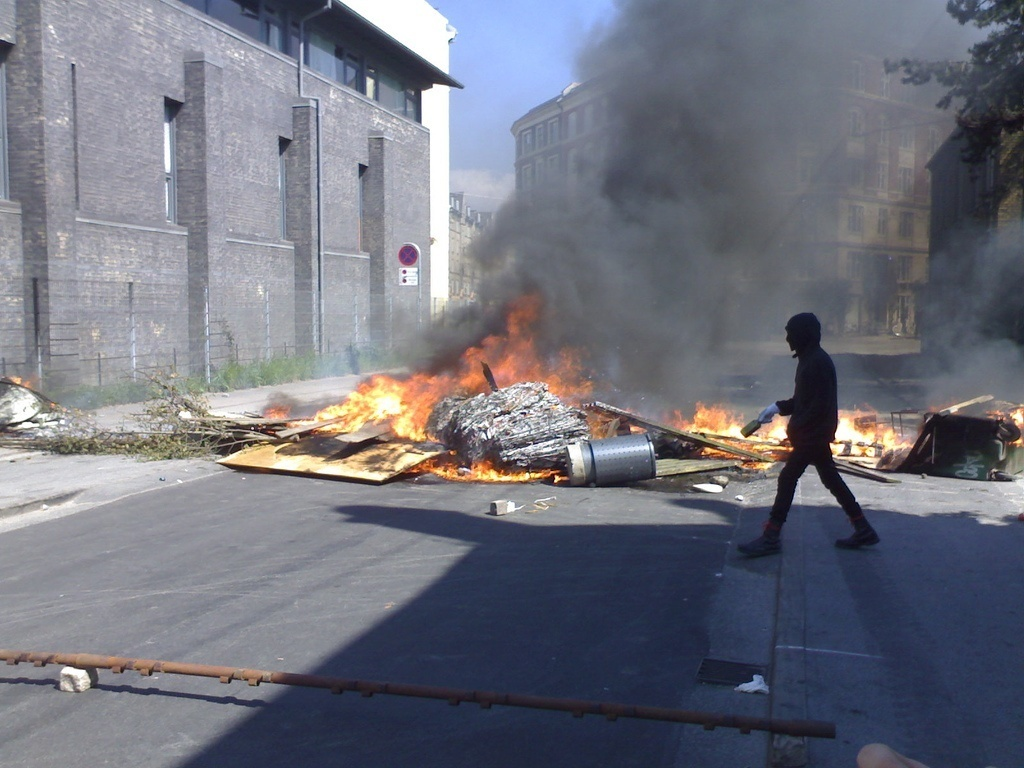fire: (222, 303, 876, 492), (829, 405, 908, 459)
